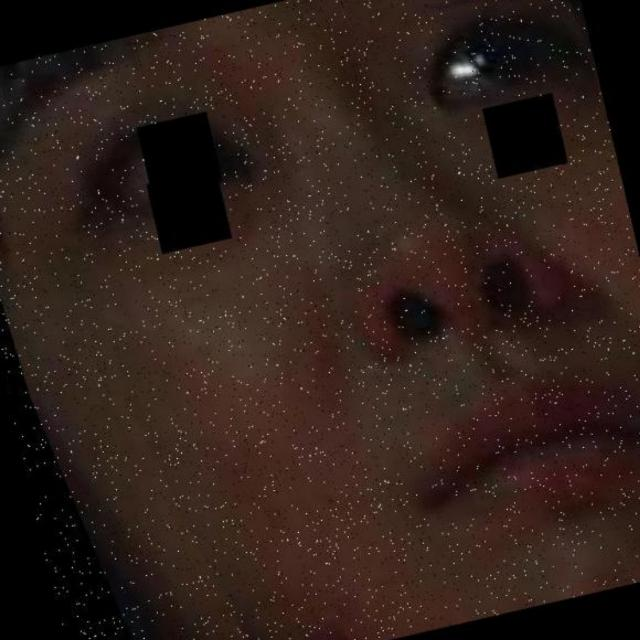Sad: (67, 48, 640, 604)
